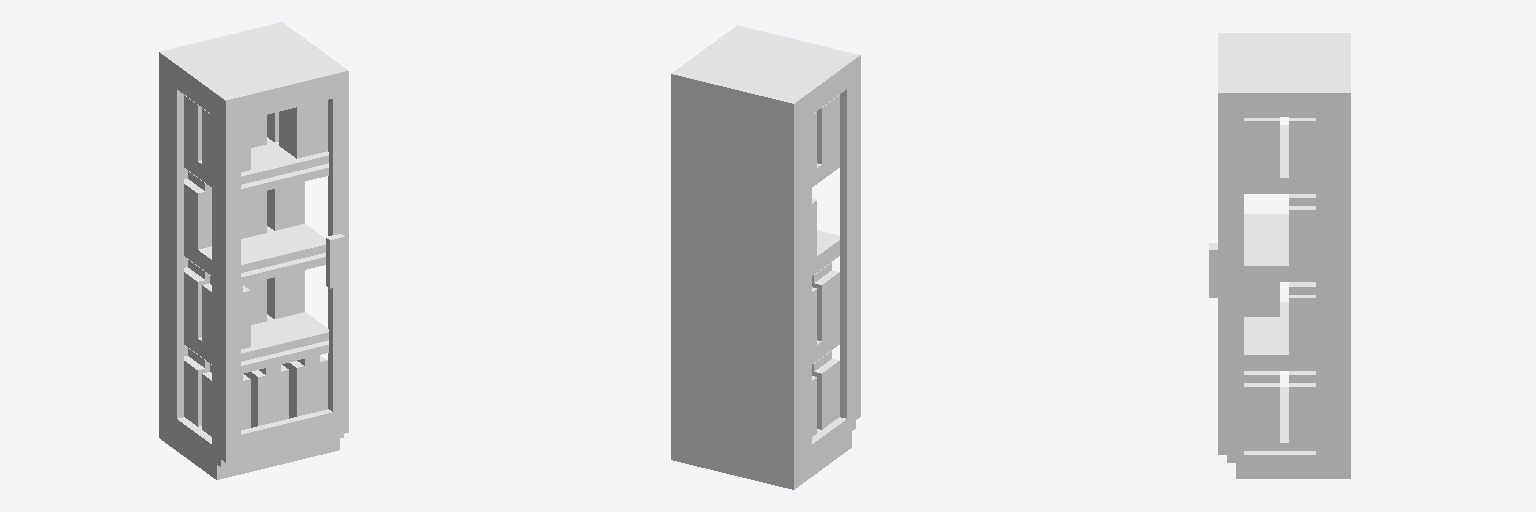
Rendered from fullMilkShelfAnimAttempt1.obj.
3 views of the same model, side by side, from view 1: azimuth 30°, elevation 25°; view 2: azimuth 150°, elevation 25°; view 3: azimuth 270°, elevation 25° (orthographic).
Parts seen in each view (by area): view 1: object 1; view 2: object 1; view 3: object 1.
Boxes of the visible parts, <box> form: object 1: <box>159,22,348,479</box>; object 1: <box>671,25,860,489</box>; object 1: <box>1209,33,1350,478</box>.
Size of the model in its own units: 1.6 by 4.8 by 1.6.